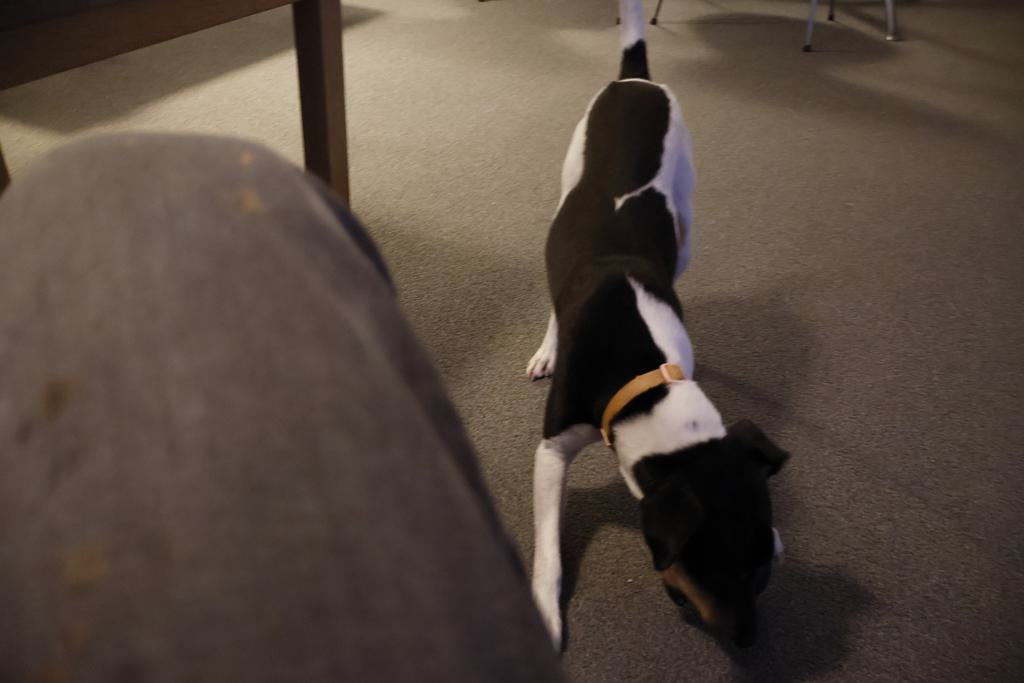Dog: (500, 0, 824, 678)
Humanoid: (0, 124, 608, 683)
